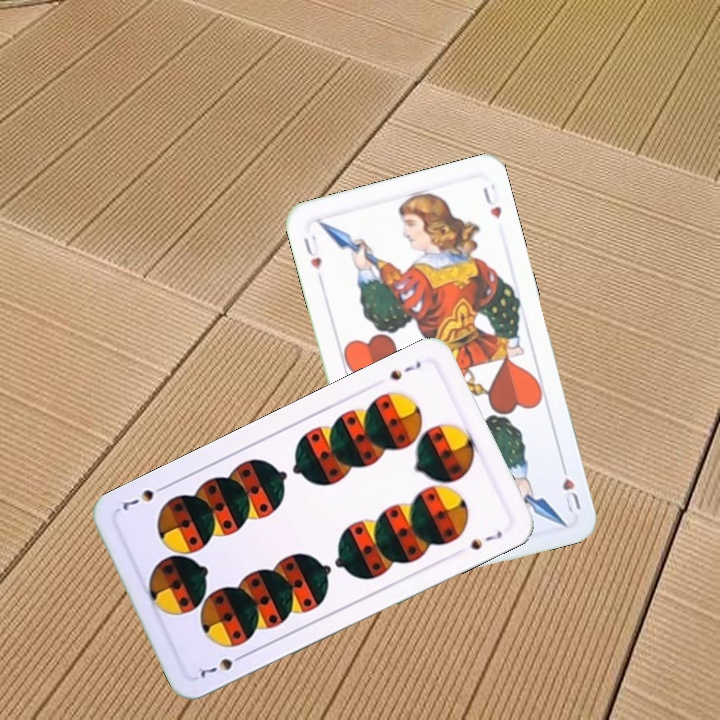HU: (557, 458, 583, 515), (300, 231, 324, 272)
S7: (194, 649, 249, 680), (385, 357, 424, 383)
